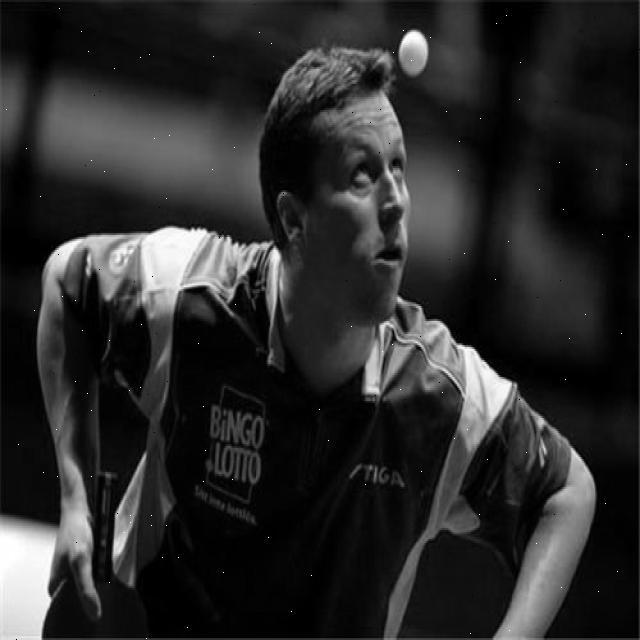ping-pong-ball: (394, 18, 430, 80)
